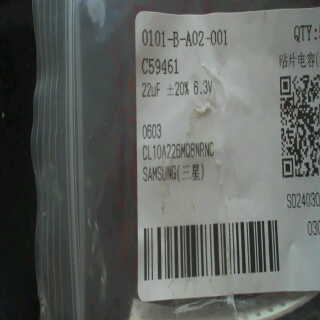22uF: (140, 80, 166, 100)
